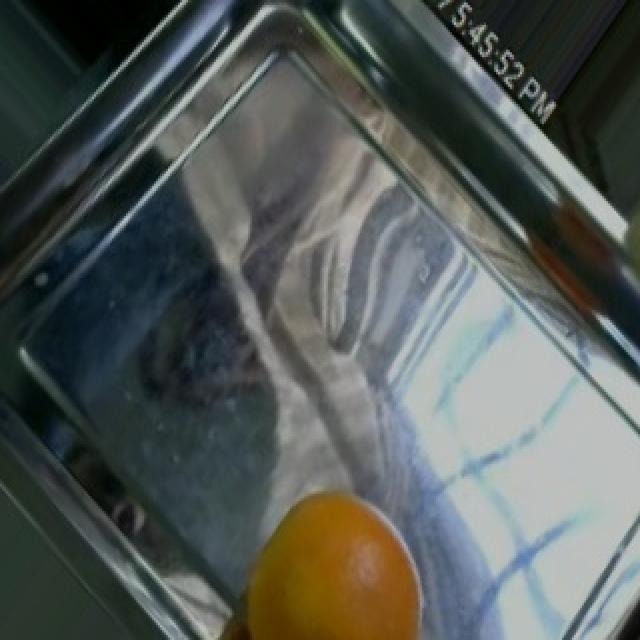Fruit: (218, 469, 438, 640)
